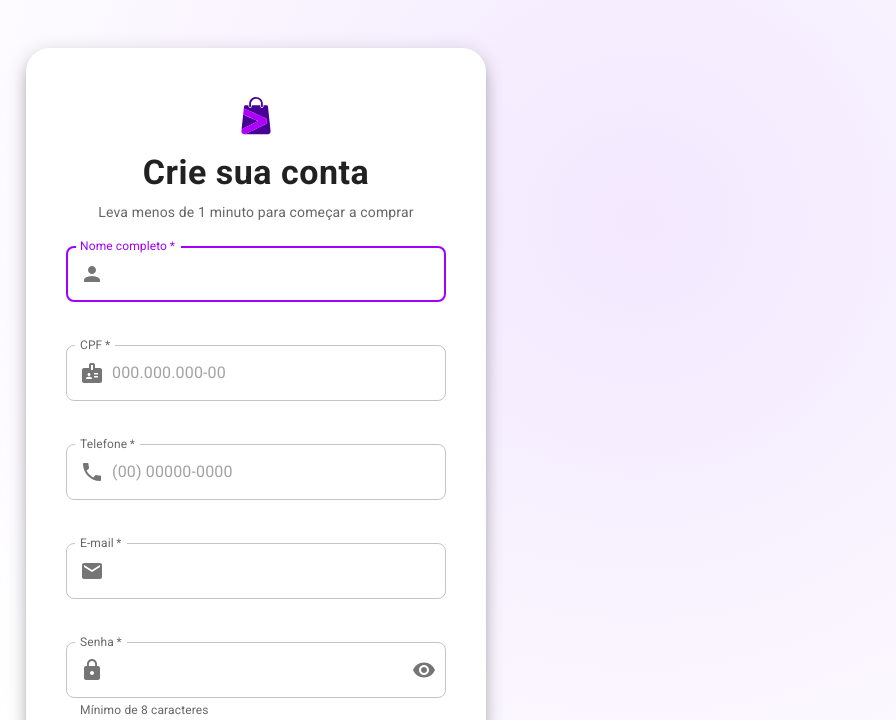
Test: Register › formata CPF enquanto digita
Type "12345678901" into the field labelled "CPF *" at [279, 373], box [112, 345, 446, 401]
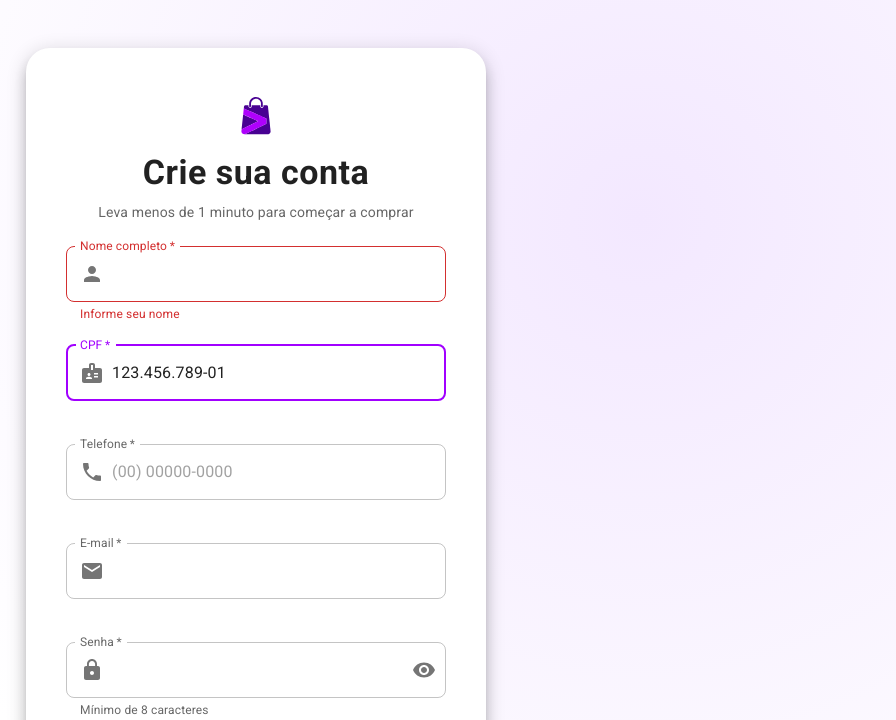
Expected: the field labelled "CPF *" holds "123.456.789-01", [112, 345, 446, 401]
